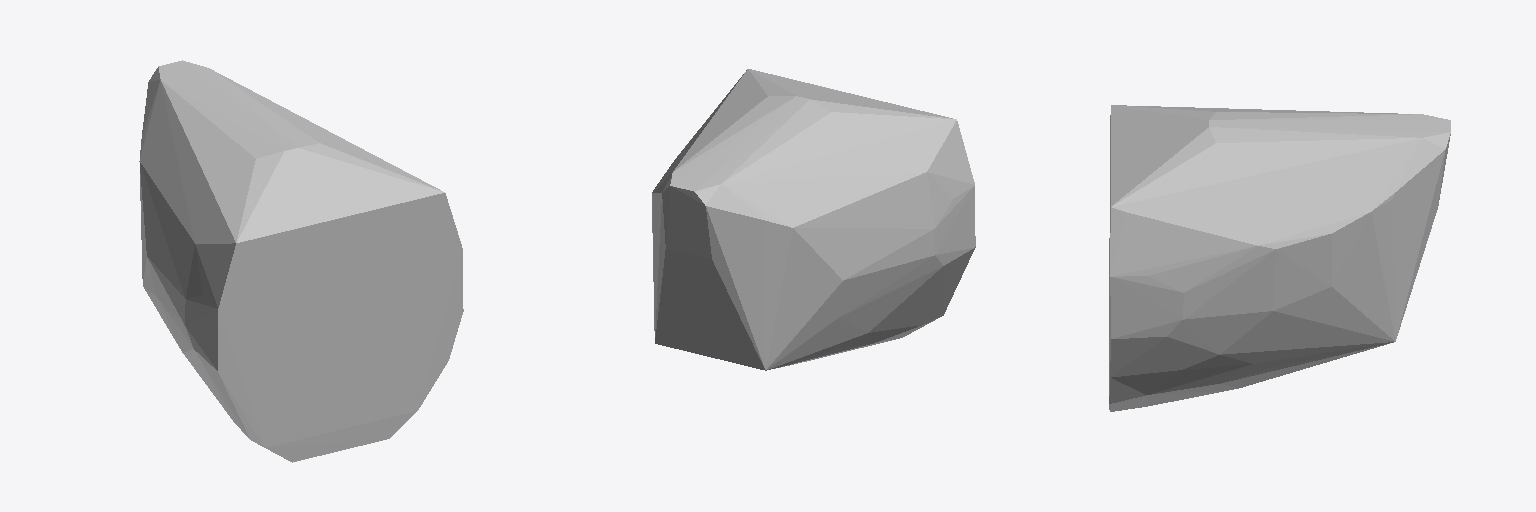
Rendered from airplane_001_collision_0.obj.
3 renders of one model, left to right at view 1: azimuth 30°, elevation 25°; view 2: azimuth 150°, elevation 25°; view 3: azimuth 270°, elevation 25°, orthographic.
Size of the model in its own units: 1.19 by 1.22 by 1.43.